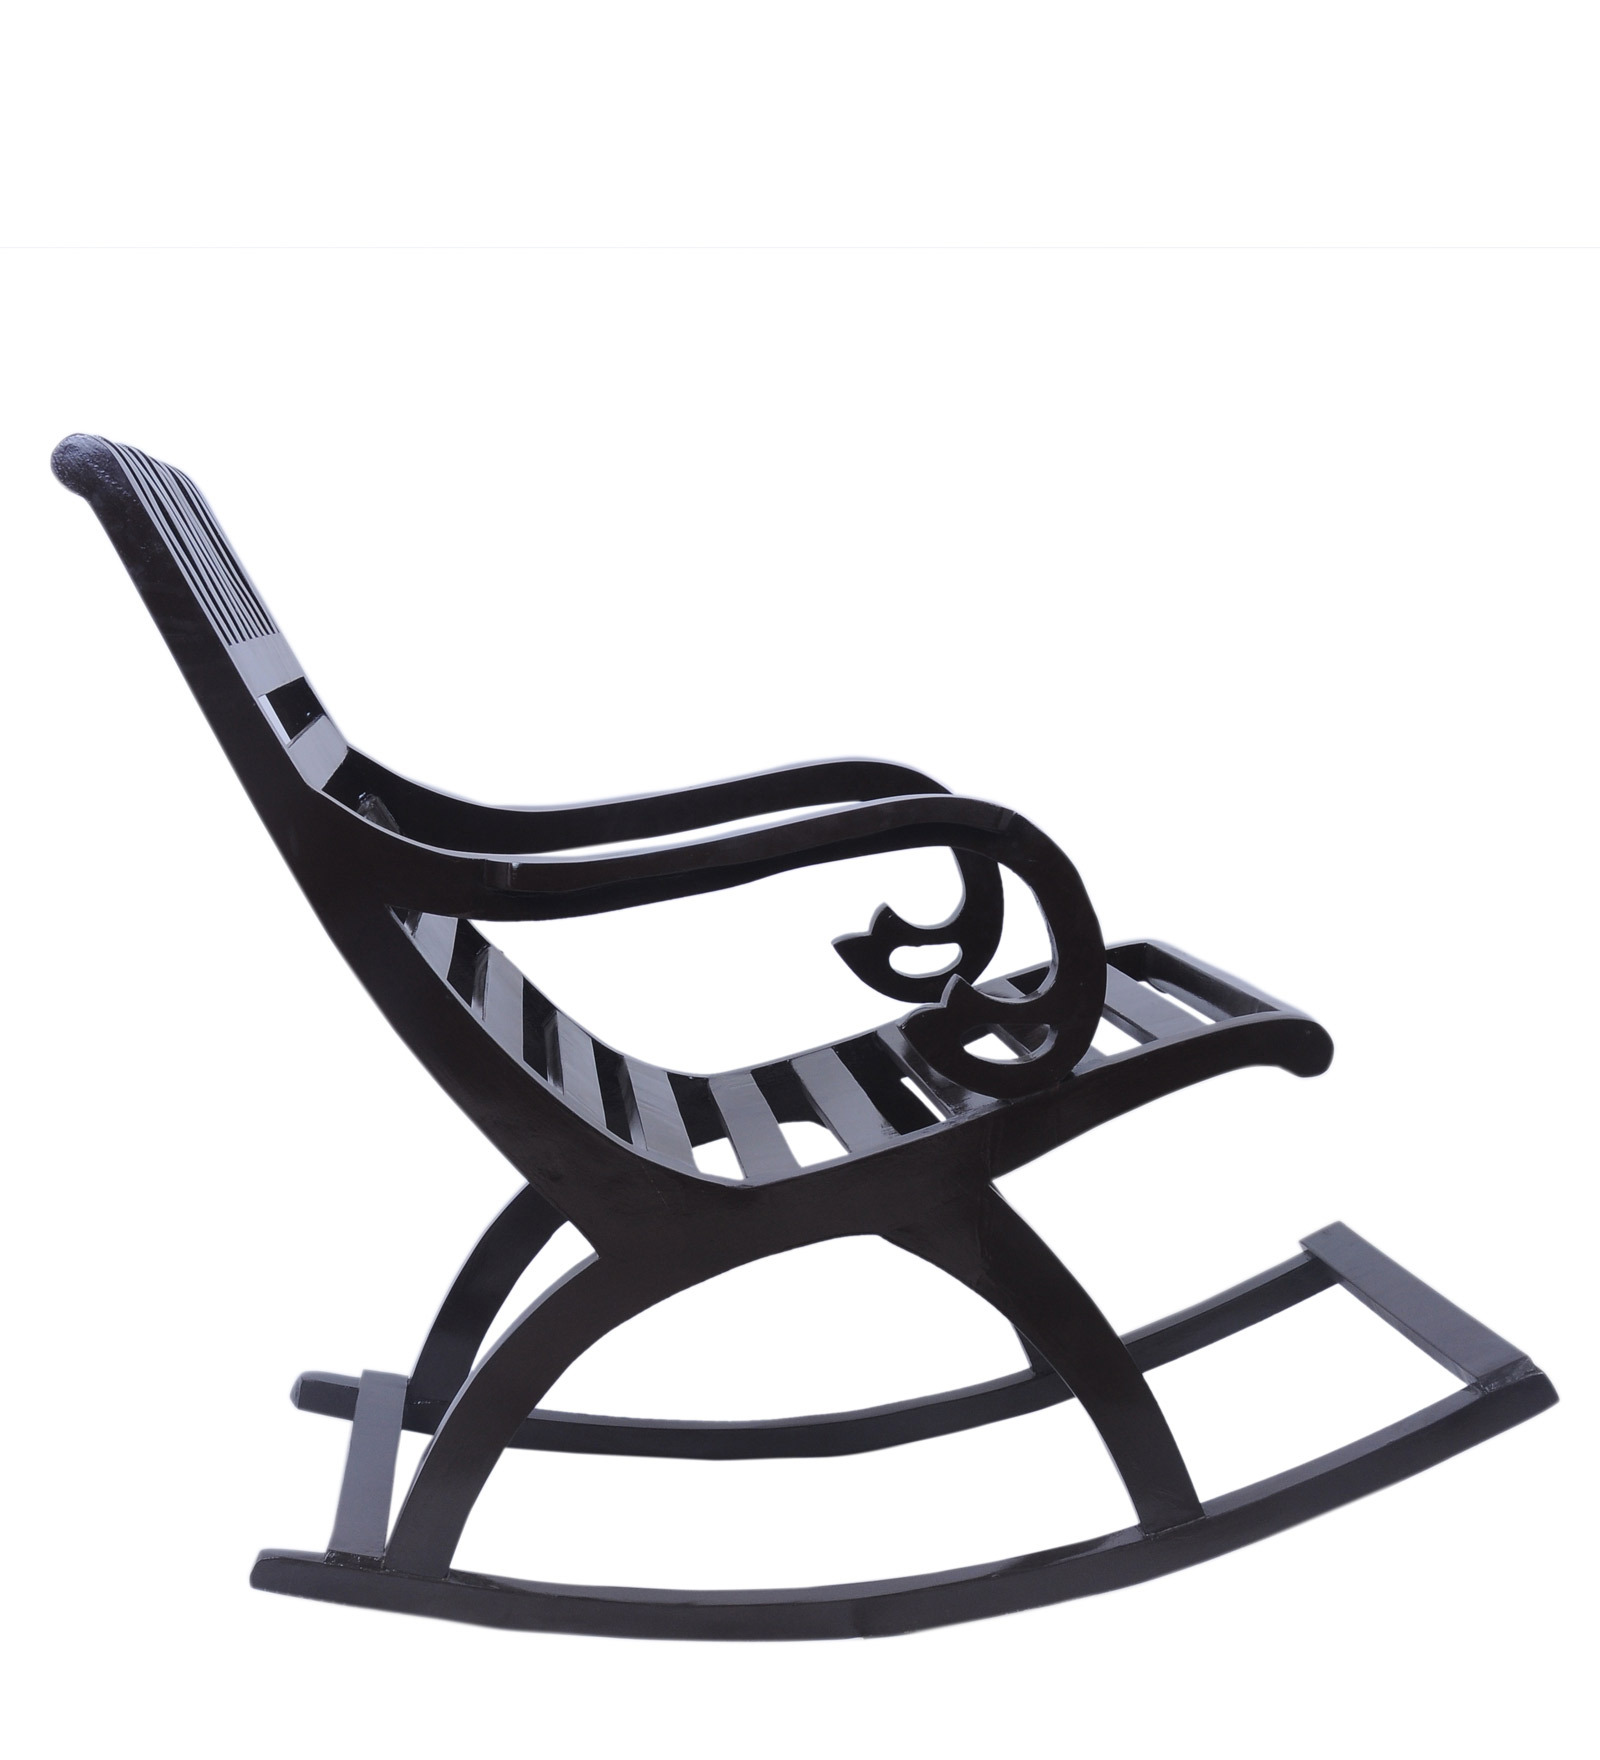Teak Wood Rocking Chair in Walnut Finish by Furniease: (43, 363, 1566, 1699)
